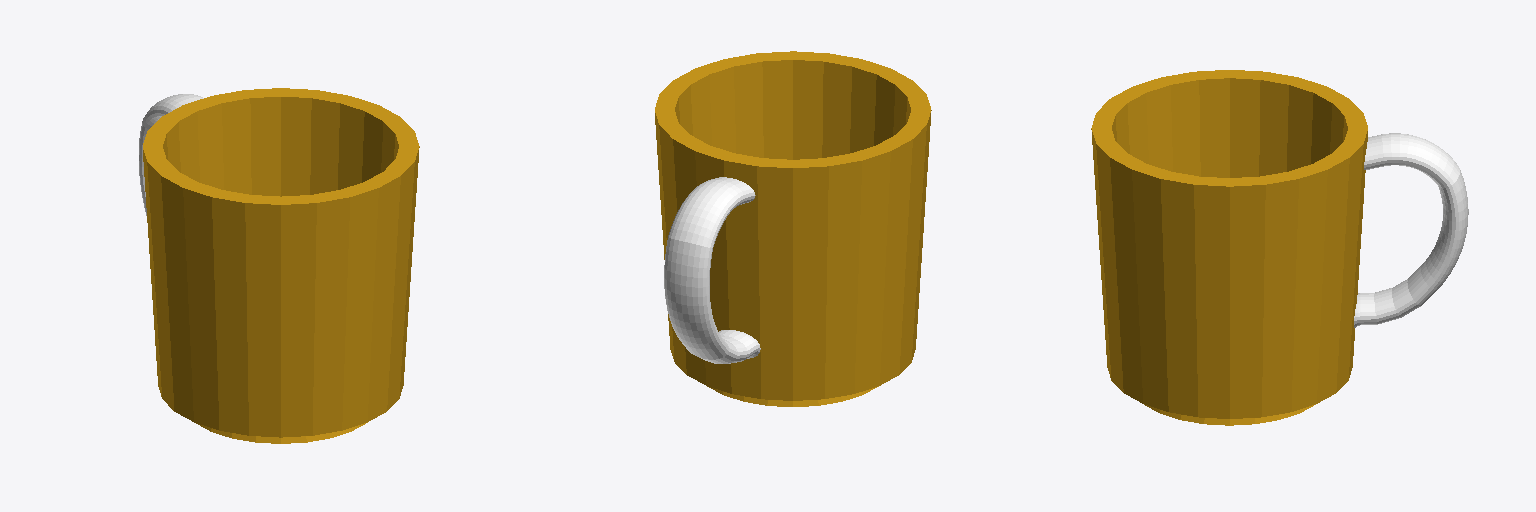
3 views of the same model, side by side, from view 1: azimuth 30°, elevation 25°; view 2: azimuth 150°, elevation 25°; view 3: azimuth 270°, elevation 25° (orthographic).
Visible parts, largest first — view 1: model_normalized.001; view 2: model_normalized.001; view 3: model_normalized.001.
Boxes of the visible parts, <box> form: model_normalized.001: <box>139,88,419,443</box>; model_normalized.001: <box>655,51,931,406</box>; model_normalized.001: <box>1091,70,1468,425</box>.
Size of the model in its own units: 0.507 by 0.5161 by 0.6904.